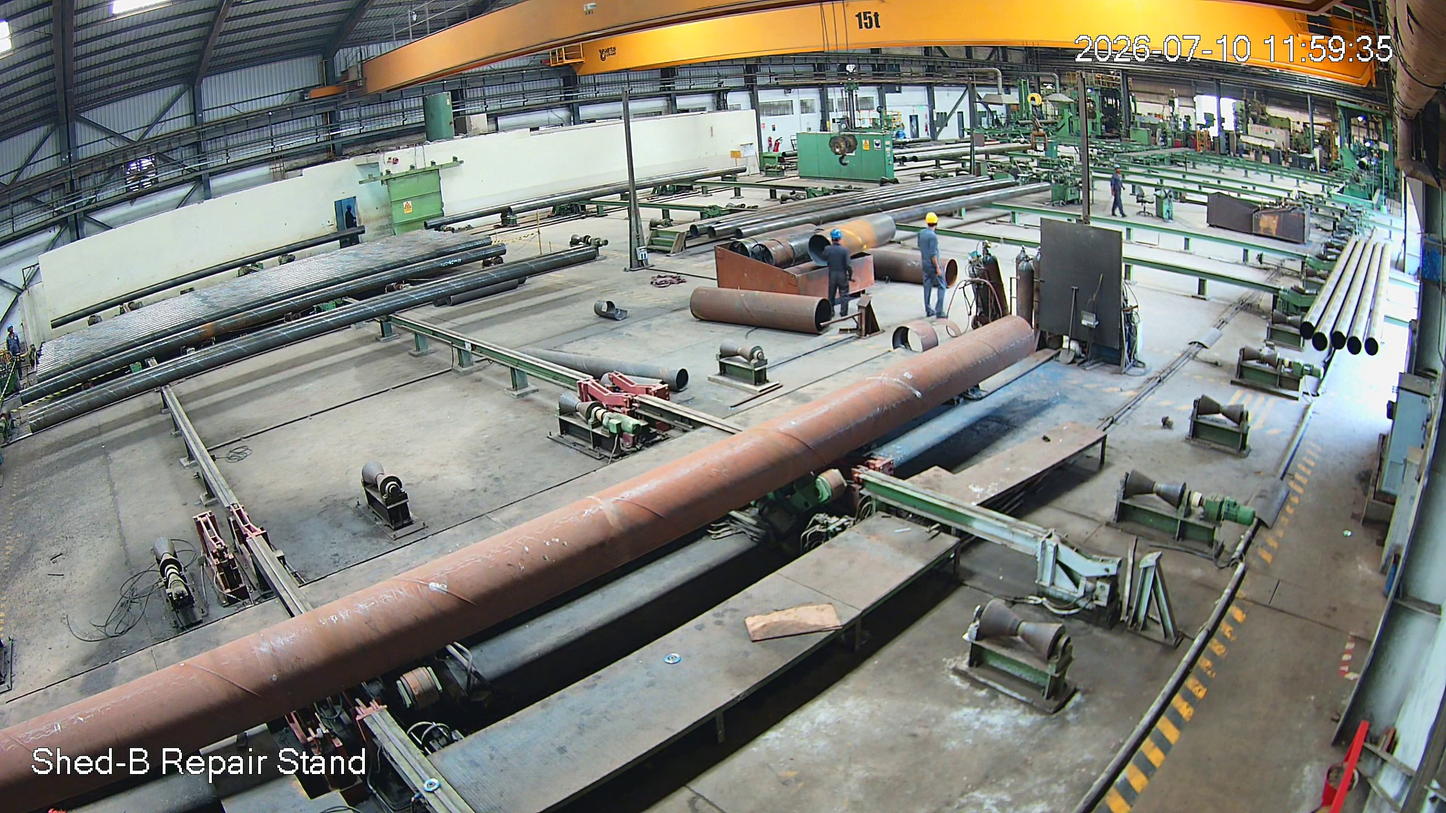Helmet: (921, 212, 944, 235), (827, 228, 847, 253)
Person: (912, 213, 955, 323), (820, 231, 858, 322), (1108, 165, 1128, 214)
